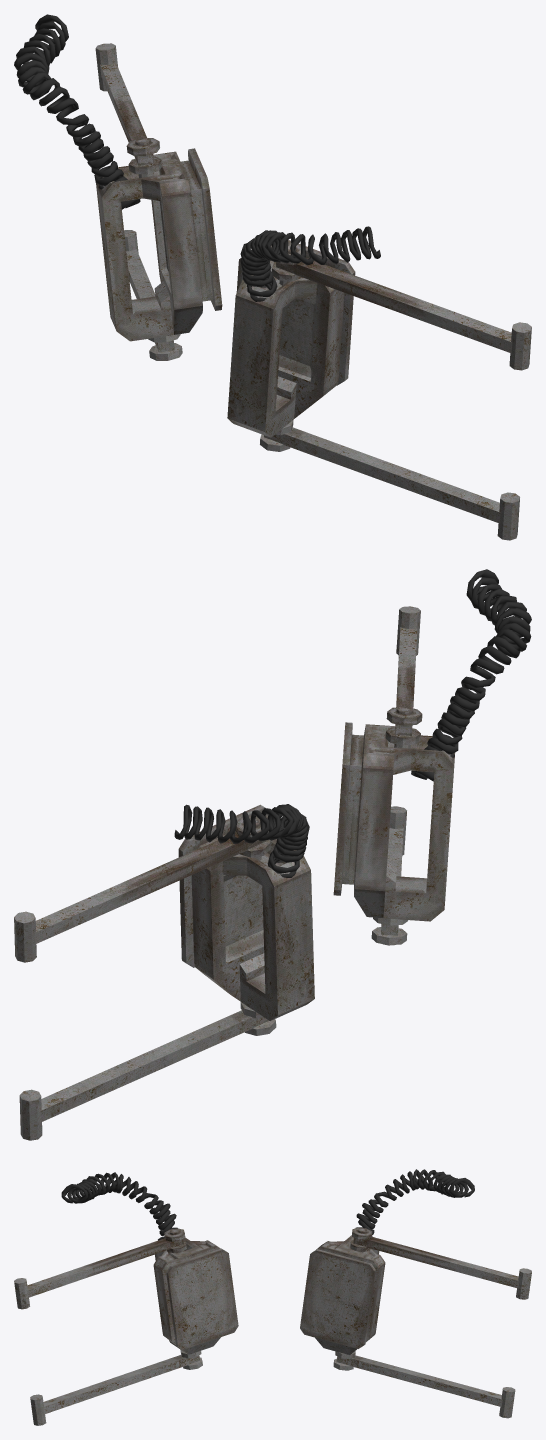
Rendered from player defib device3.glb.
3 renders of one model, top to bottom at view 1: azimuth 30°, elevation 25°; view 2: azimuth 150°, elevation 25°; view 3: azimuth 270°, elevation 25°, orthographic. The views are drawn at different scales.
Visible parts, largest first — view 1: defib device_left, defib device_right; view 2: defib device_right, defib device_left; view 3: defib device_right, defib device_left.
Part boxes in pixels (bbox=[...]): defib device_left: bbox=[227, 226, 531, 540]; defib device_right: bbox=[14, 14, 222, 360]; defib device_right: bbox=[14, 804, 314, 1140]; defib device_left: bbox=[333, 569, 531, 945]; defib device_right: bbox=[300, 1169, 531, 1418]; defib device_left: bbox=[14, 1172, 238, 1425].
Size of the model in its own units: 4.44 by 6.5 by 14.94.
Materials: 2 (1 with a texture image).
